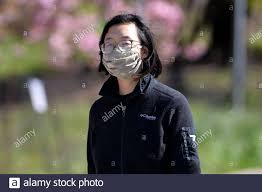with-mask: (95, 13, 157, 90)
